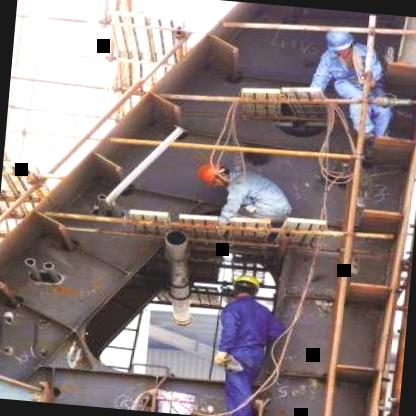helmet: (322, 27, 360, 62), (229, 271, 271, 301), (196, 162, 236, 188)
